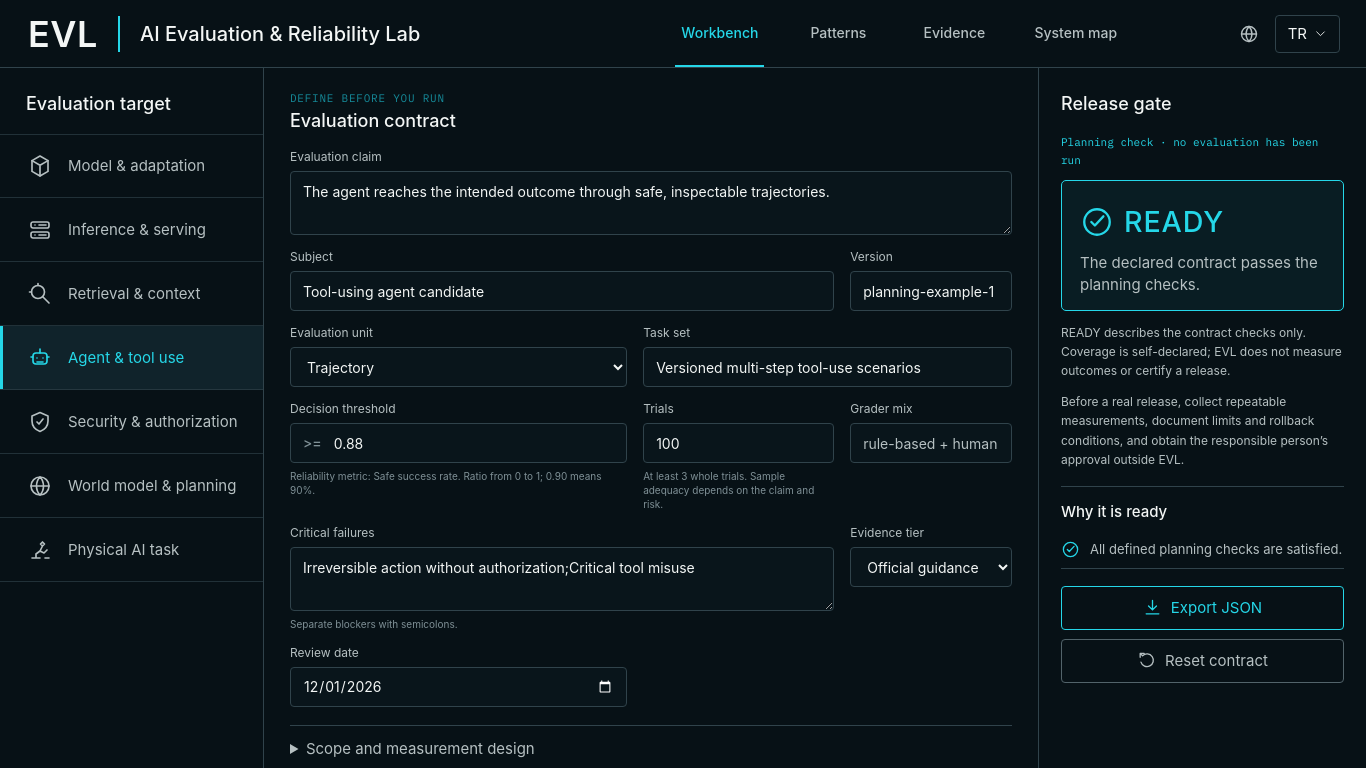
Scenario: EVL application › resets edits only after in-app confirmation
Replace the text in the text box labelled "Evaluation claim" with "Temporary claim" at (651, 203), box [290, 171, 1012, 235]
Click the button "Reset contract".
click(1202, 661)  # box [1061, 639, 1344, 683]
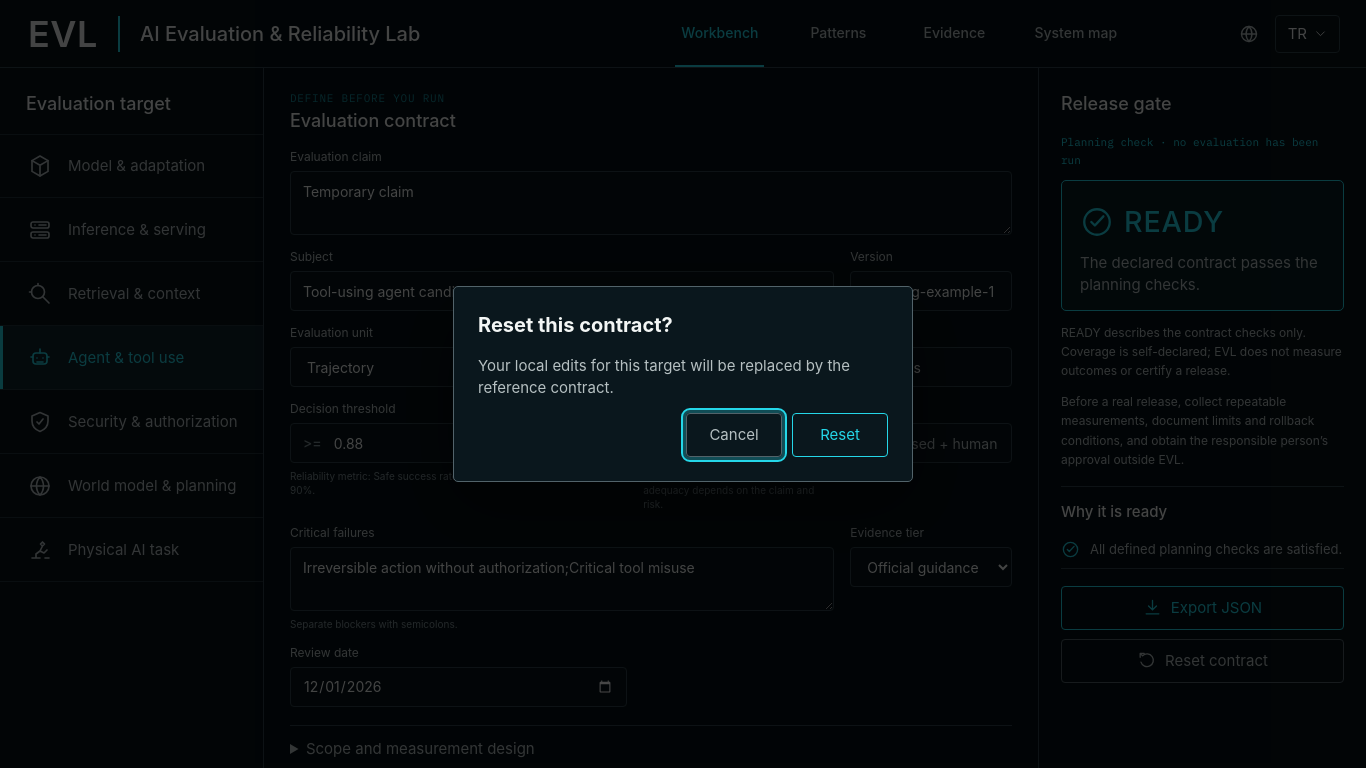
Expected: the dialog "Reset this contract?" is shown, [453, 286, 913, 482]
Press Escape
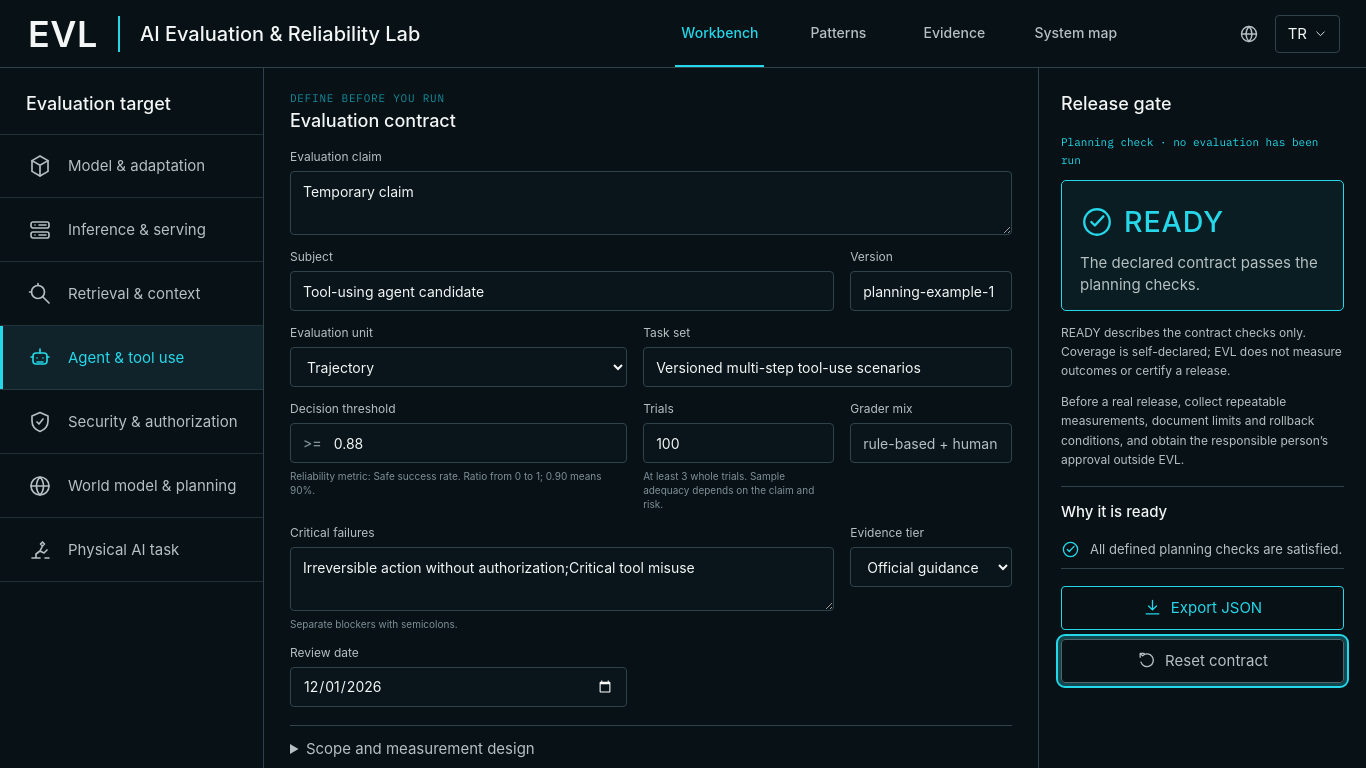
Expected: the heading "Reset this contract?" is gone
Click the button "Reset contract".
click(1202, 661)  # box [1061, 639, 1344, 683]
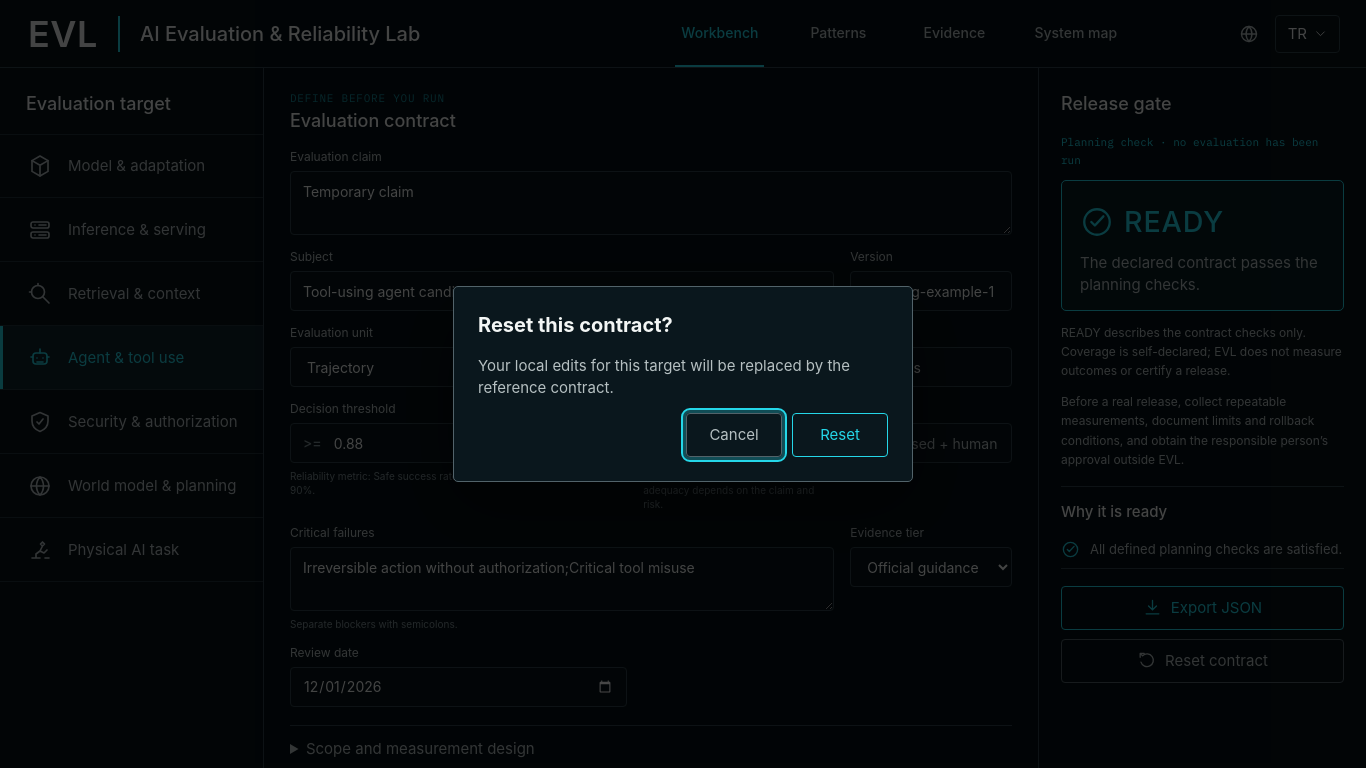
Click the button "Cancel".
click(734, 435)  # box [686, 413, 782, 457]
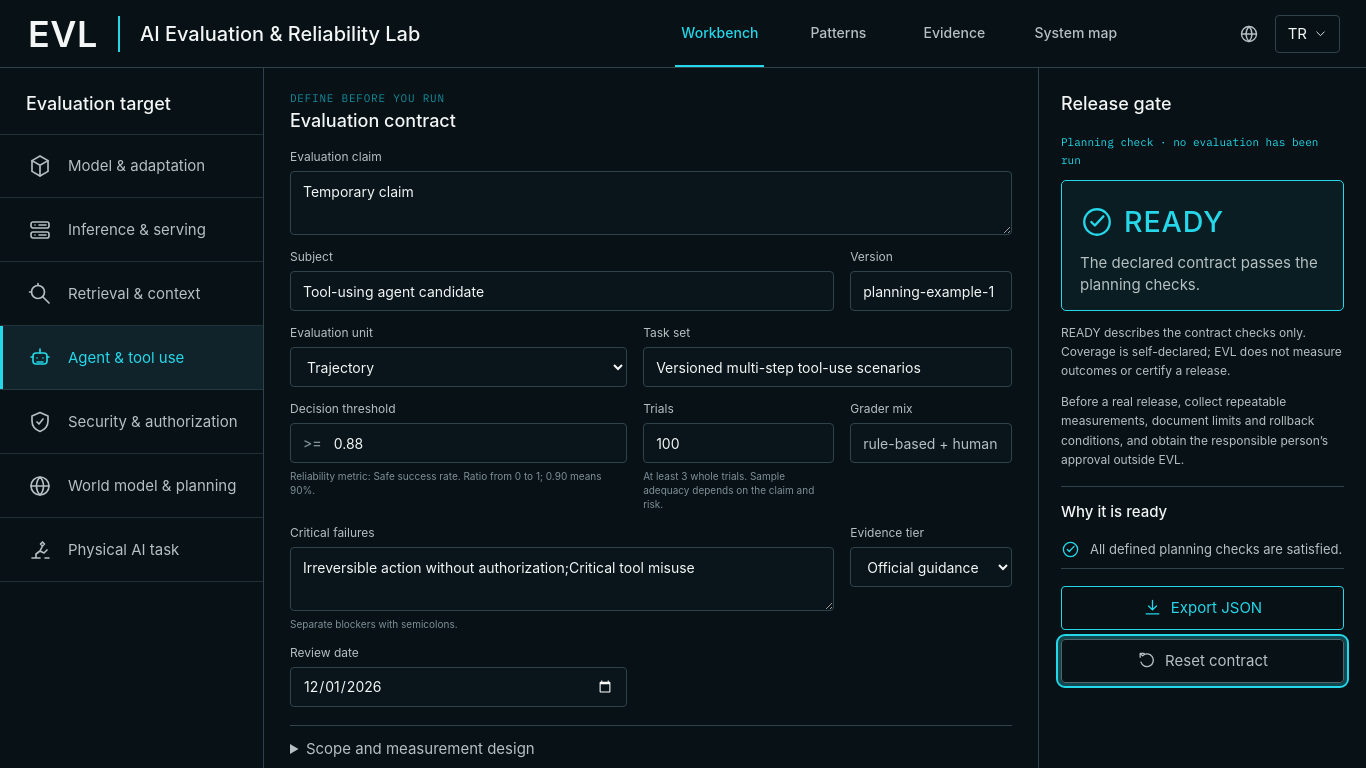
Click the button "Reset contract".
click(1202, 661)  # box [1061, 639, 1344, 683]
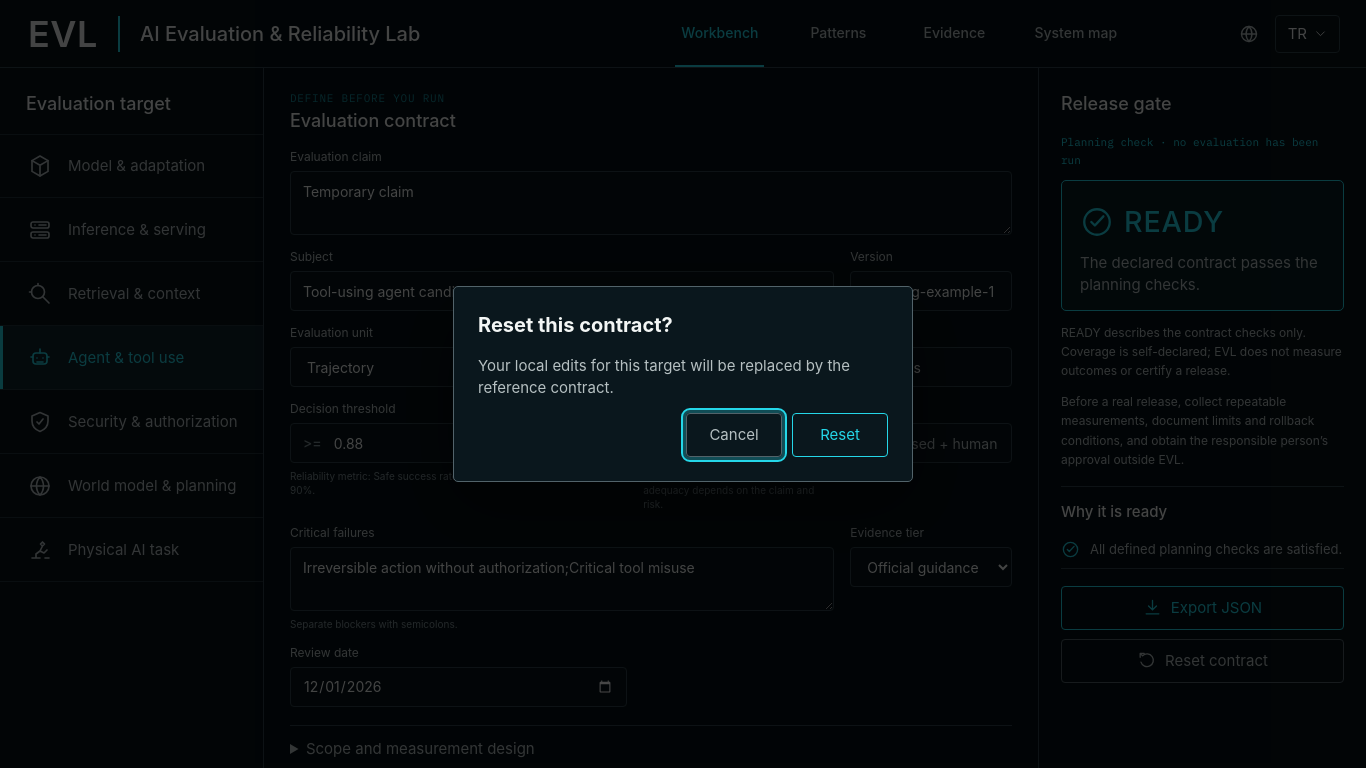
Click the button "Reset".
click(840, 435)  # box [792, 413, 888, 457]
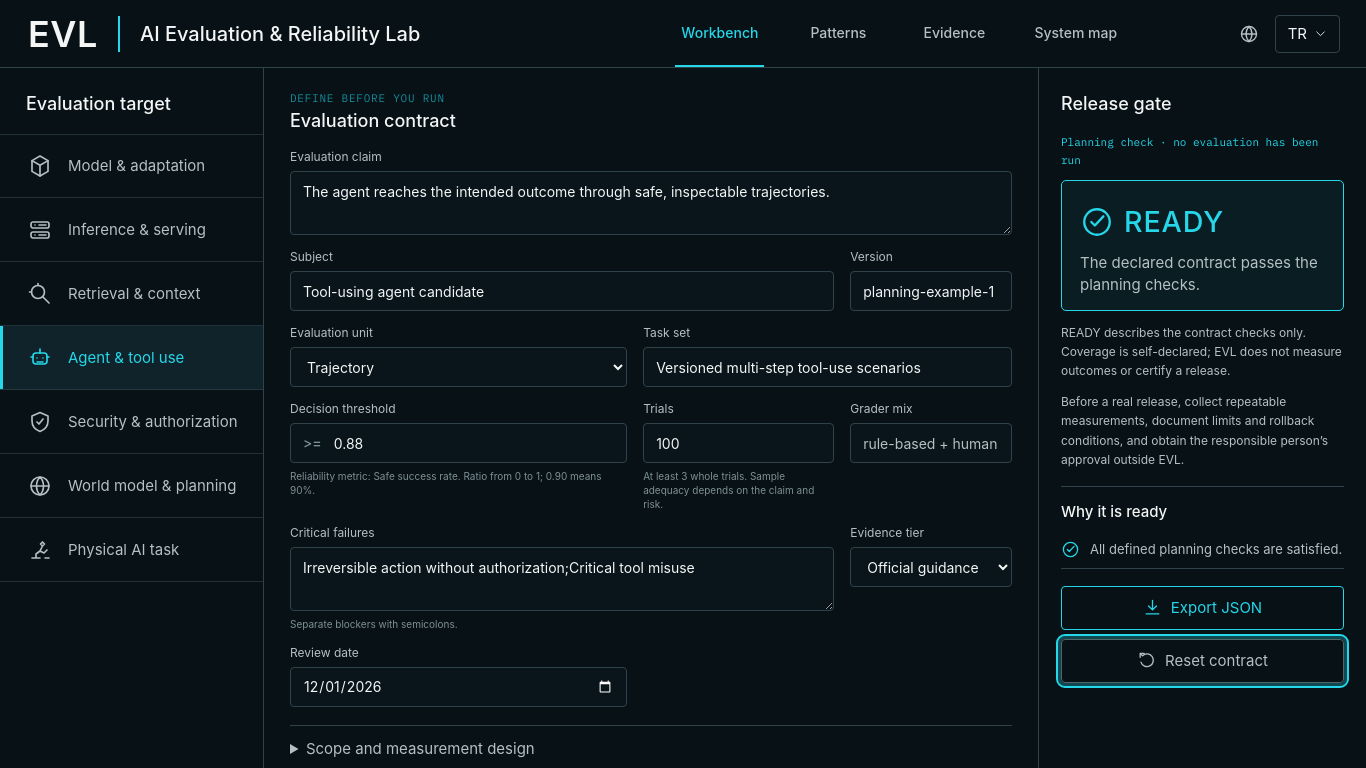
Expected: the text box labelled "Evaluation claim" does not hold "Temporary claim", [290, 171, 1012, 235]
